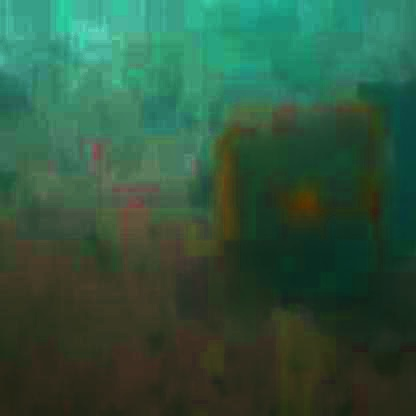misc: (191, 96, 413, 316)
